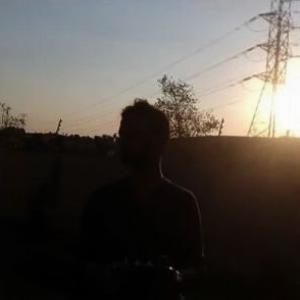follow: (76, 95, 208, 299)
